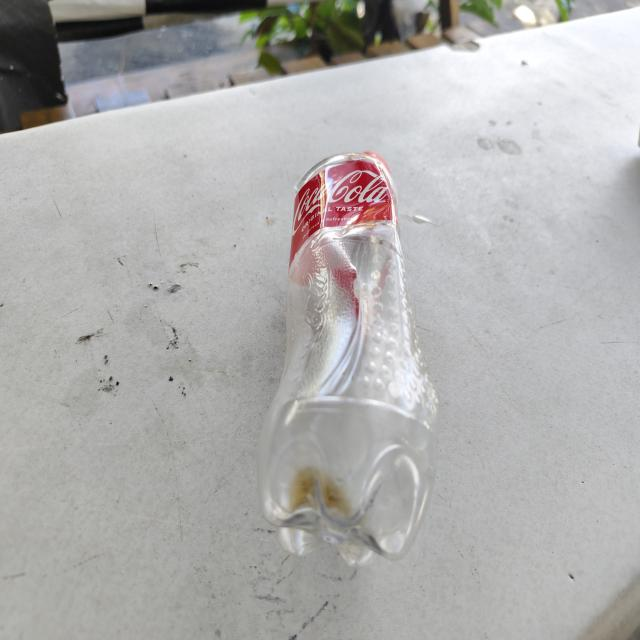Bottle: (258, 152, 438, 566)
